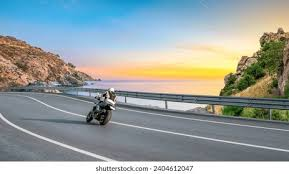motorcycle: (85, 94, 121, 124)
